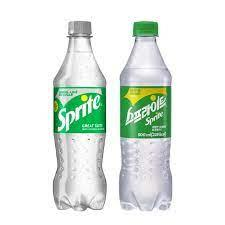sprite_zero: (49, 16, 110, 212)
